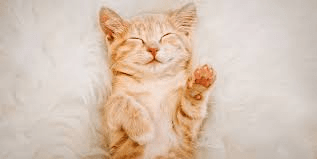cat: (93, 4, 220, 159)
